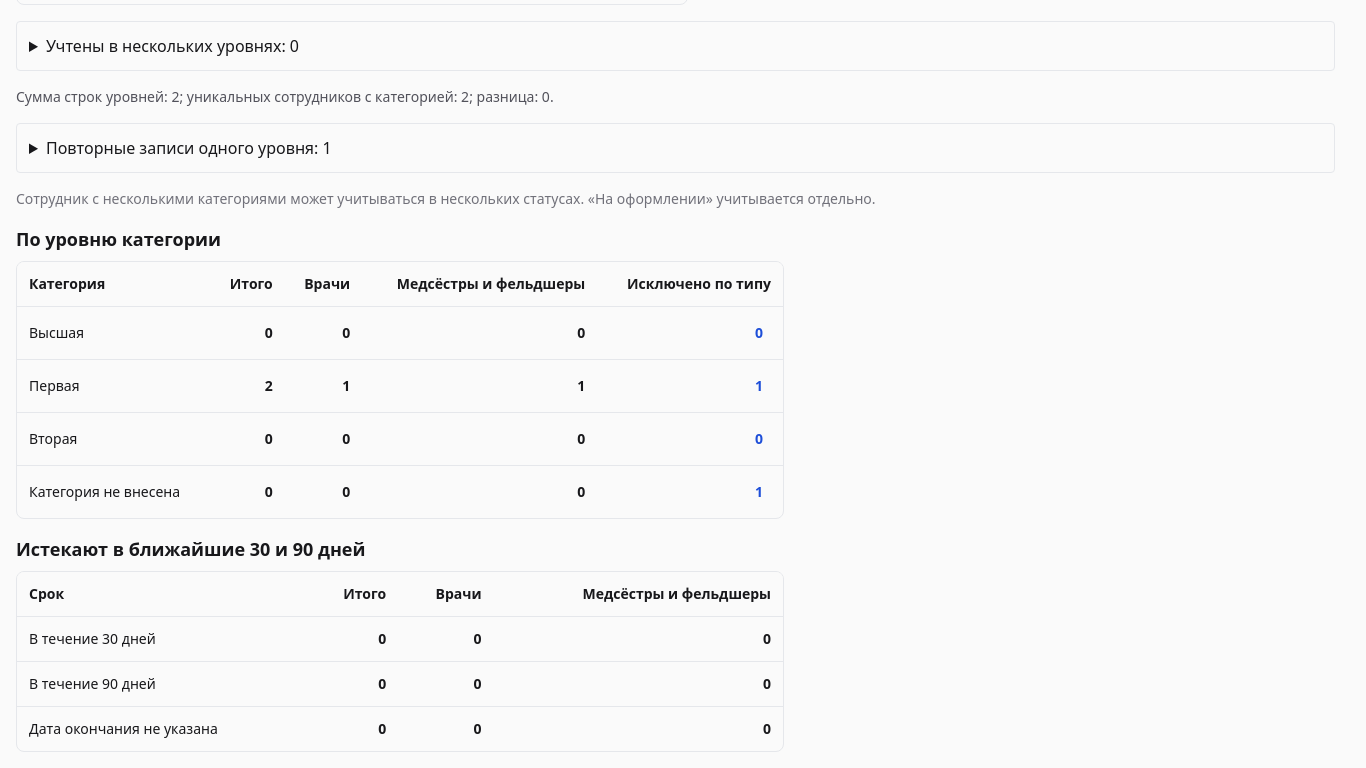
applies the department filter to all columns in both tables
(page scrolled)
Expected: the cell with test id "qualification-level-first-all" reads "2", [265,376,273,395]
Expected: the cell with test id "qualification-level-NO_CATEGORY-all" reads "0", [265,482,273,501]
Click the button with test id "qualification-level-first-excluded" at {"x": 759, "y": 386}, box [747,372,771,400]
(page scrolled)
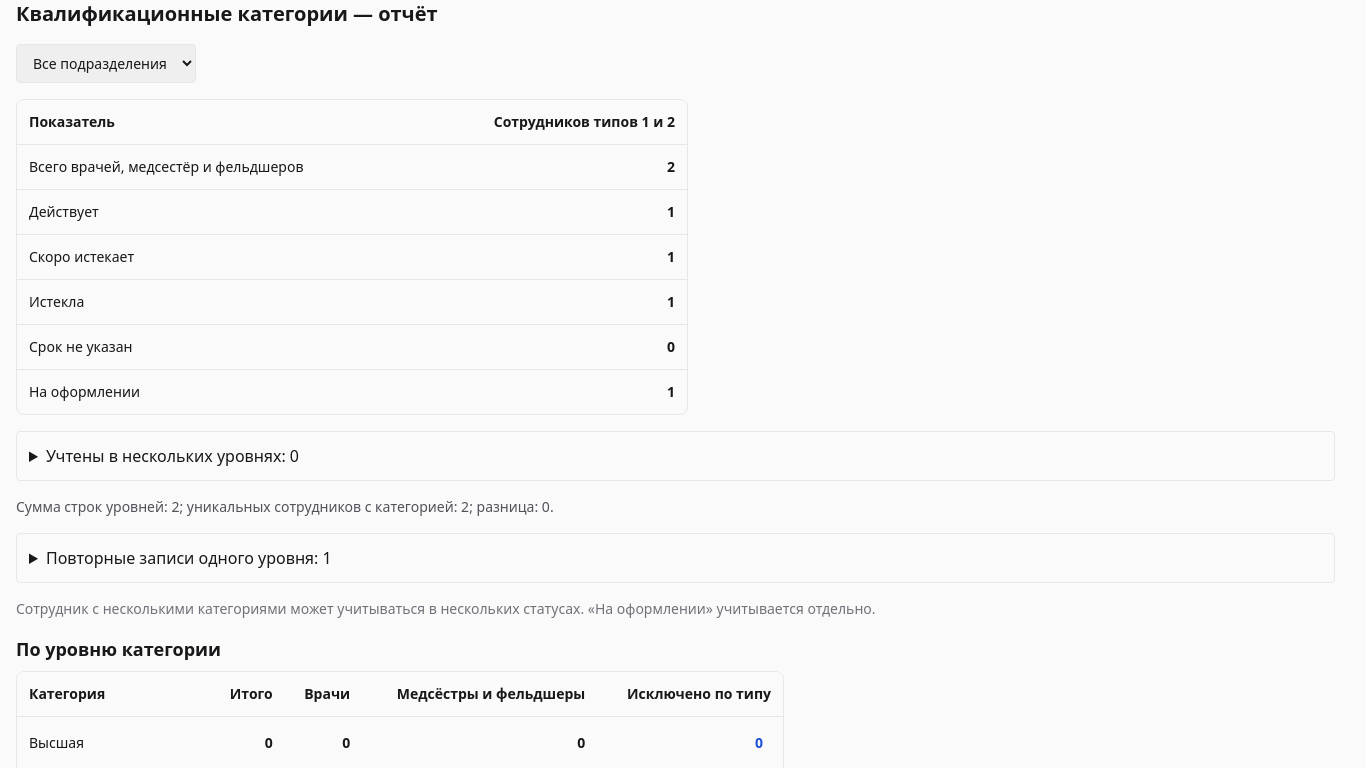
Select "Отделение А" in the dropdown named "Подразделение" at {"x": 106, "y": 64}, box [16,44,196,83]
(page scrolled)
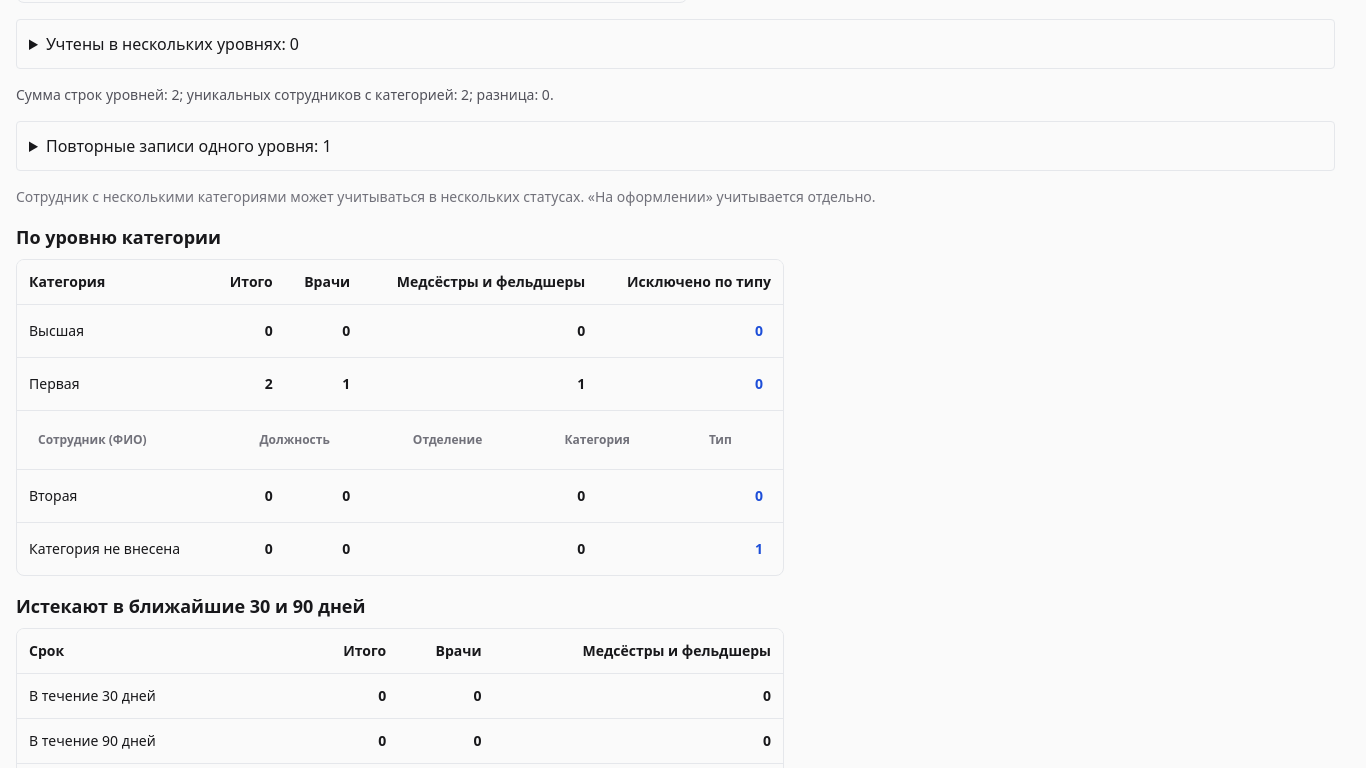
Expected: the cell with test id "qualification-level-first-all" reads "2", [265,374,273,393]
Expected: the button with test id "qualification-level-first-excluded" reads "0", [747,370,771,398]
